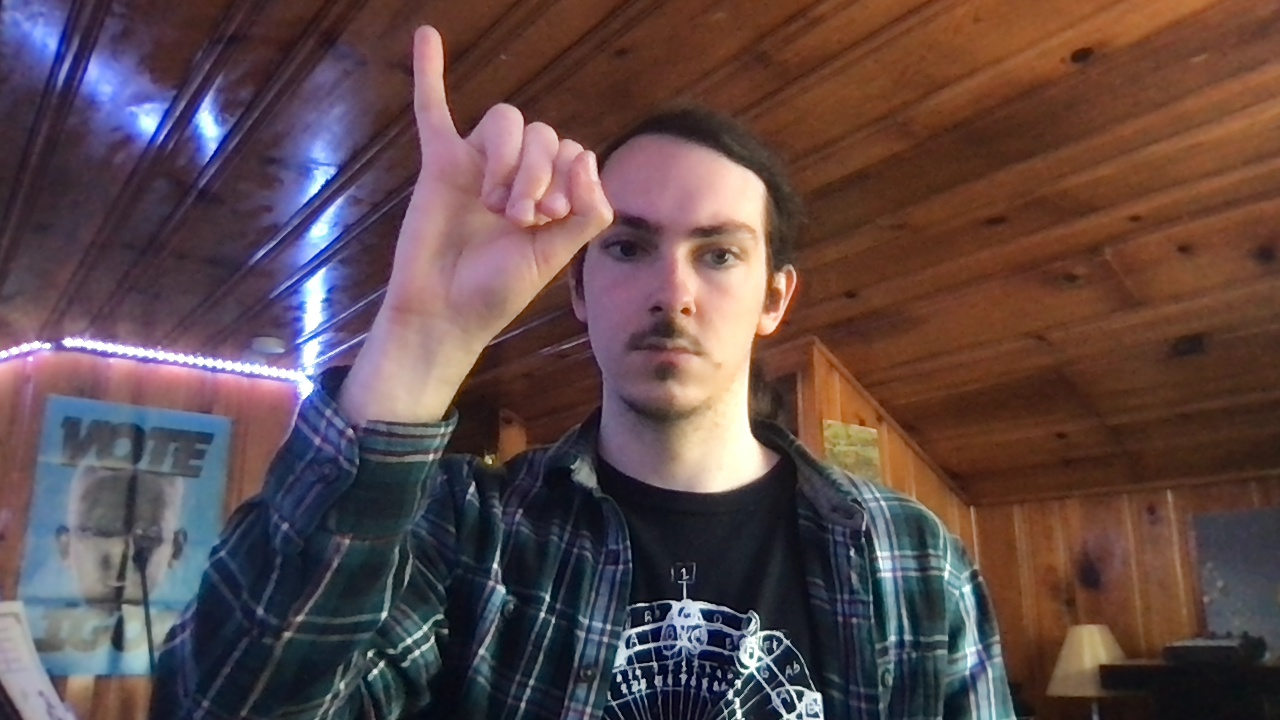i: (382, 22, 618, 341)
